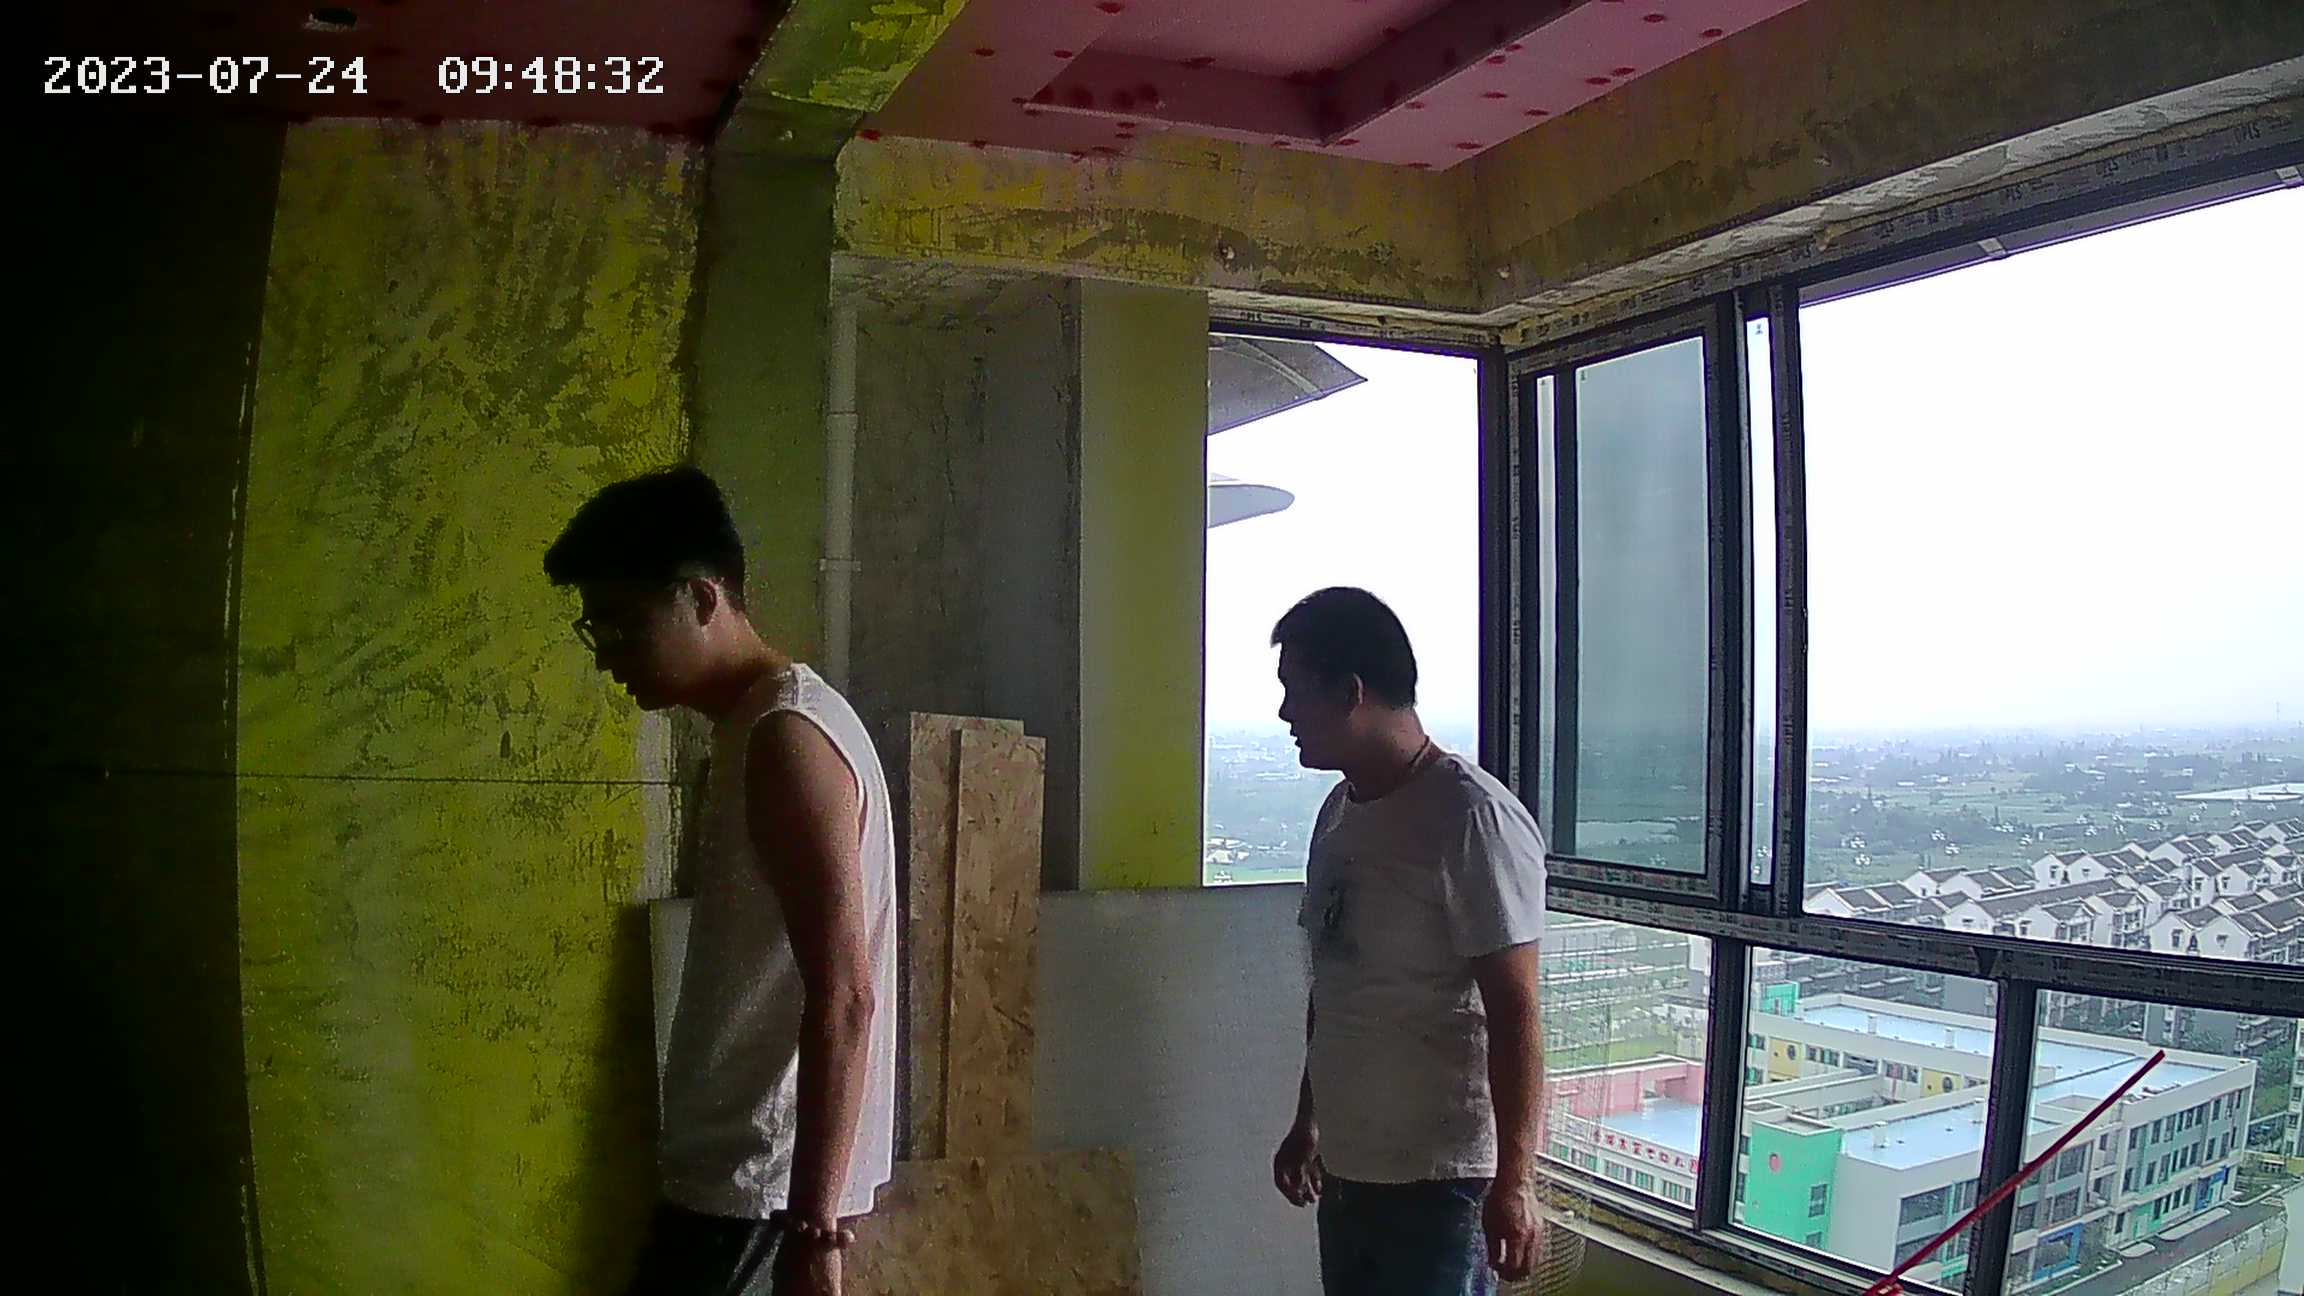people: (549, 471, 896, 1296), (1270, 581, 1547, 1296)
window: (1202, 296, 2304, 1281)
